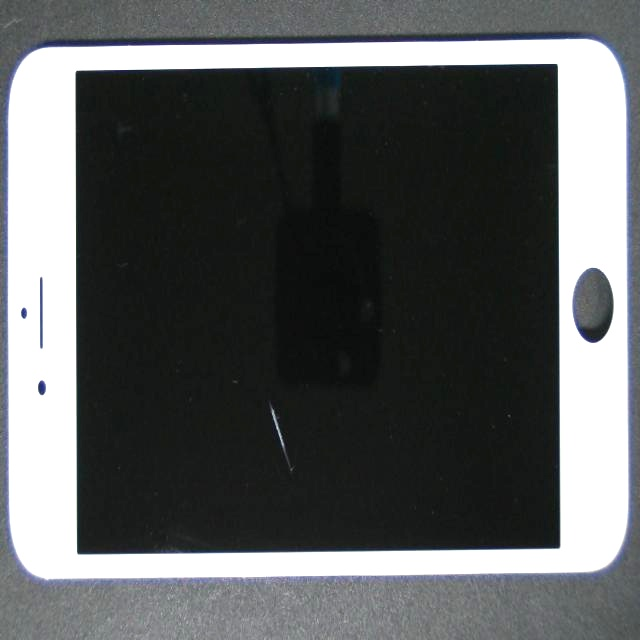scratch: (106, 151, 401, 640)
